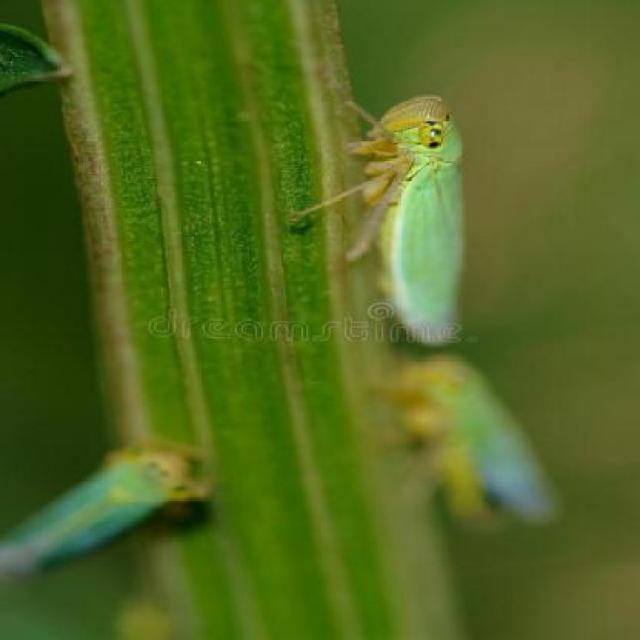green-leafhopper: (343, 101, 485, 342), (3, 435, 194, 571), (416, 362, 532, 532)
